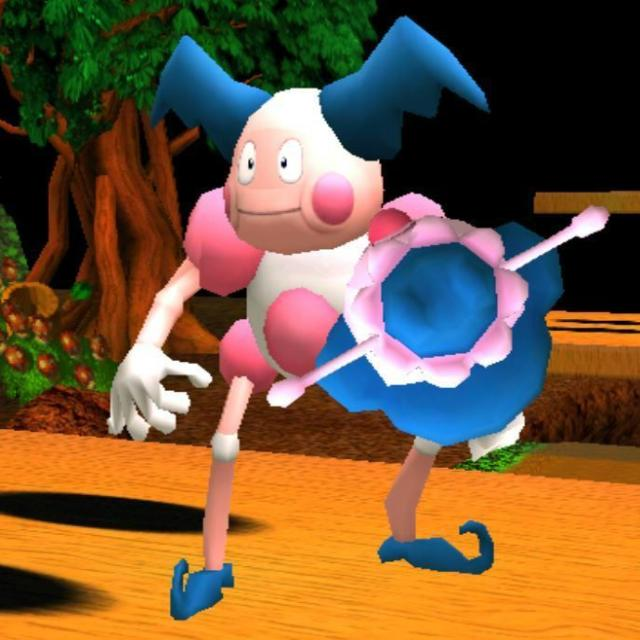MrMime: (146, 33, 469, 603)
